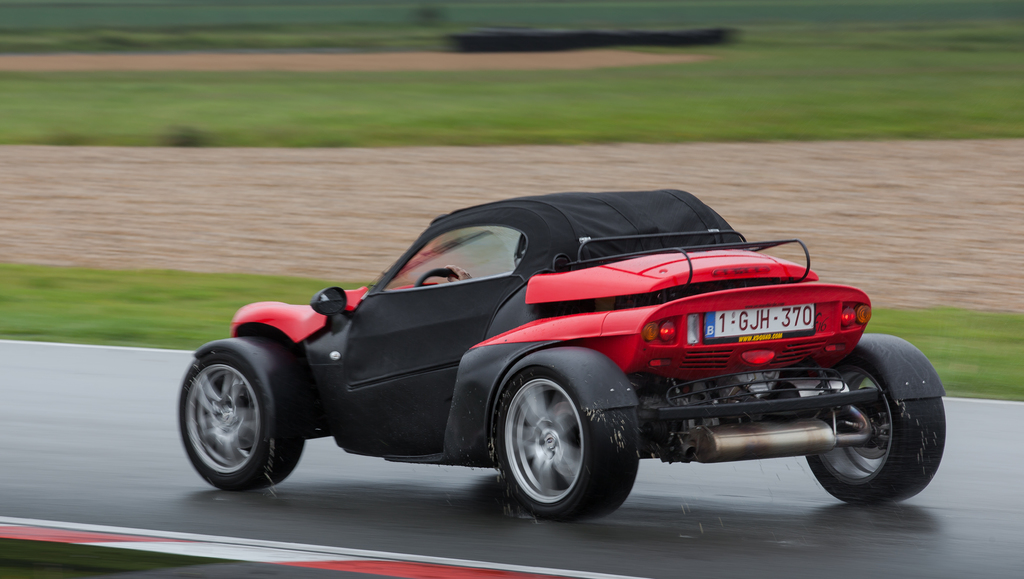mobil: (176, 172, 953, 558)
